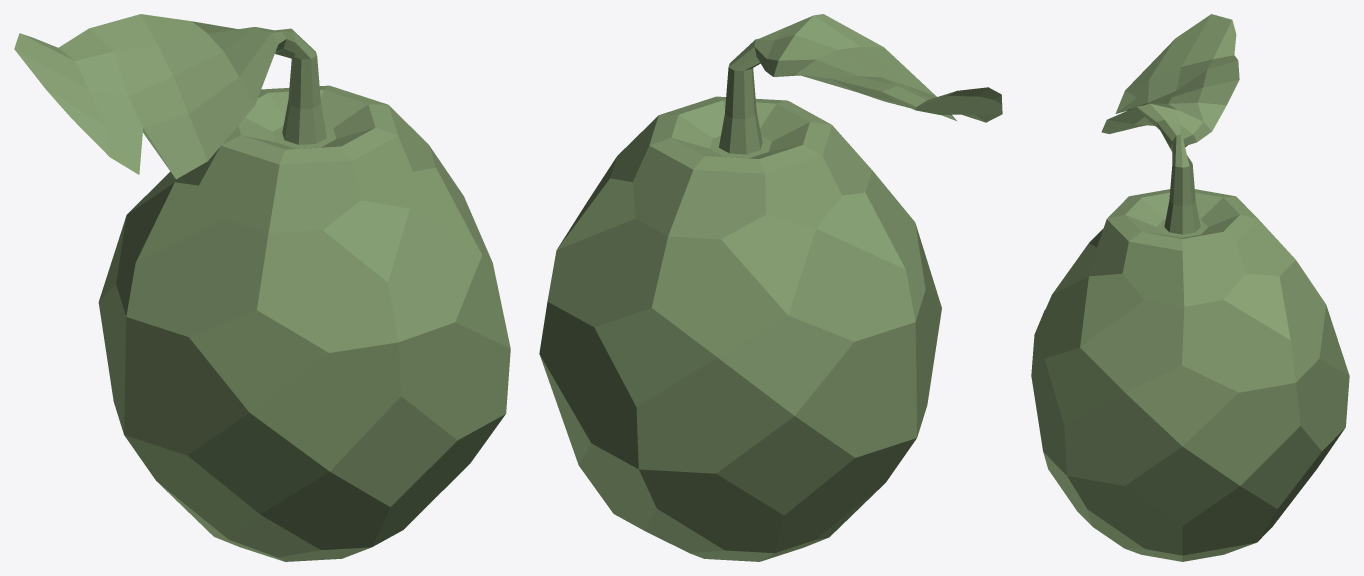
The model's file is pear.fbx.
The picture shows the model from 3 angles, left to right: view 1: azimuth 30°, elevation 25°; view 2: azimuth 150°, elevation 25°; view 3: azimuth 270°, elevation 25°; orthographic projection. The views are drawn at different scales.
Parts seen in each view (by area): view 1: pear; view 2: pear; view 3: pear.
Part boxes in pixels (x1,y1,x2,y2): pear: (14,14,510,561); pear: (539,14,1002,561); pear: (1031,14,1349,561).
Size of the model in its own units: 5.26 by 6 by 4.05.
